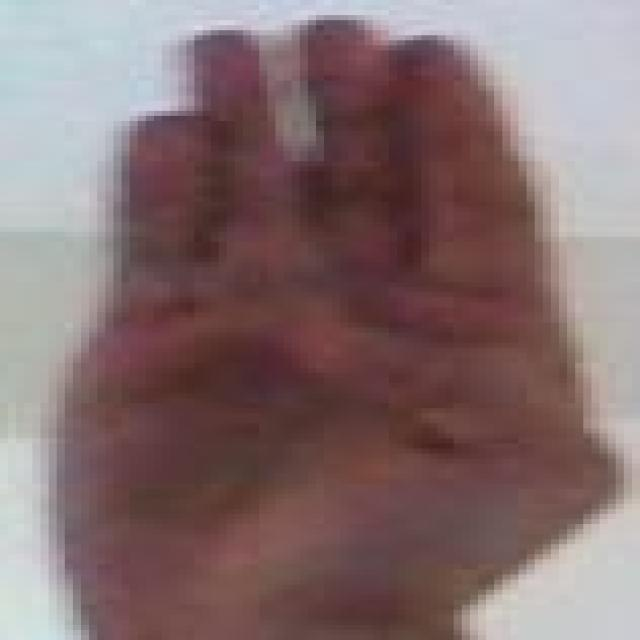B: (5, 3, 640, 640)
